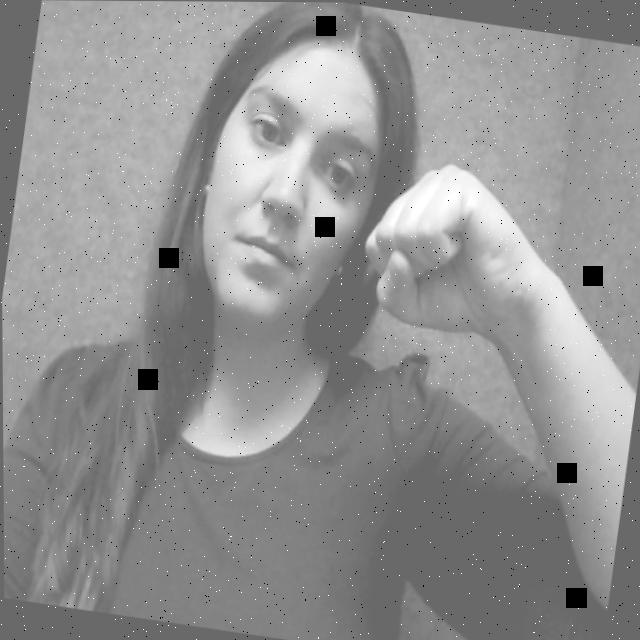Rock: (345, 140, 565, 366)
